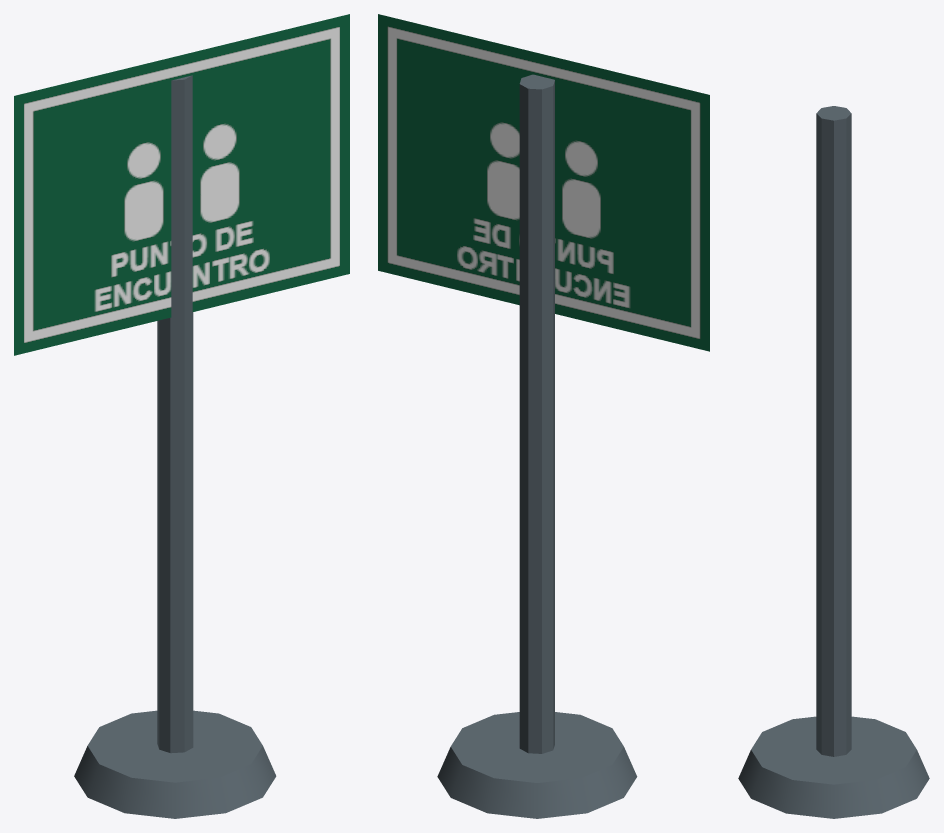
Rendered from punto_de_encuentro.fbx.
The picture shows the model from 3 angles, left to right: view 1: azimuth 30°, elevation 25°; view 2: azimuth 150°, elevation 25°; view 3: azimuth 270°, elevation 25°; orthographic projection. The views are drawn at different scales.
Parts seen in each view (by area): view 1: de_encuentro_etiqueta, post, post_02; view 2: de_encuentro_etiqueta, post, post_02; view 3: post, post_02.
Part boxes in pixels (<box>): de_encuentro_etiqueta: <box>14,14,349,355</box>; post: <box>157,75,193,753</box>; post_02: <box>74,710,276,818</box>; de_encuentro_etiqueta: <box>378,14,709,351</box>; post: <box>519,74,554,753</box>; post_02: <box>437,712,637,818</box>; post: <box>816,106,851,756</box>; post_02: <box>738,716,929,818</box>.
Size of the model in its own units: 1.15 by 2.38 by 0.6.
Materials: 2 (1 with a texture image).
